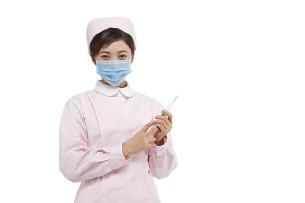OK: (95, 47, 135, 87)
